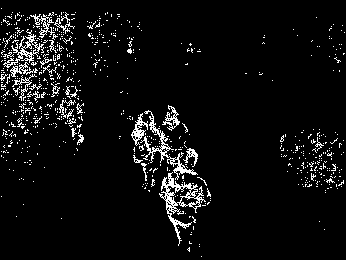person: (159, 147, 213, 256), (130, 108, 166, 190), (158, 102, 189, 173), (59, 85, 88, 152)
